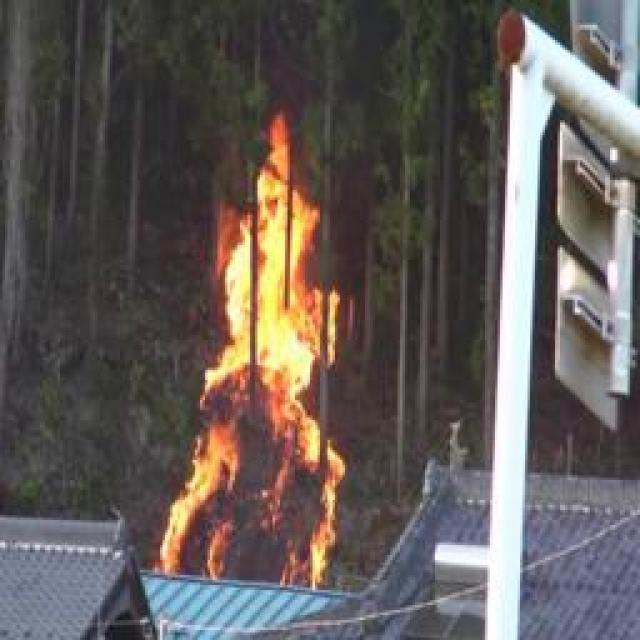fire: (145, 88, 365, 600)
